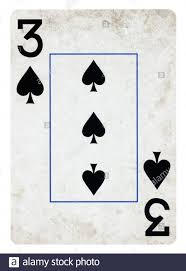three of spades: (11, 8, 176, 245)
